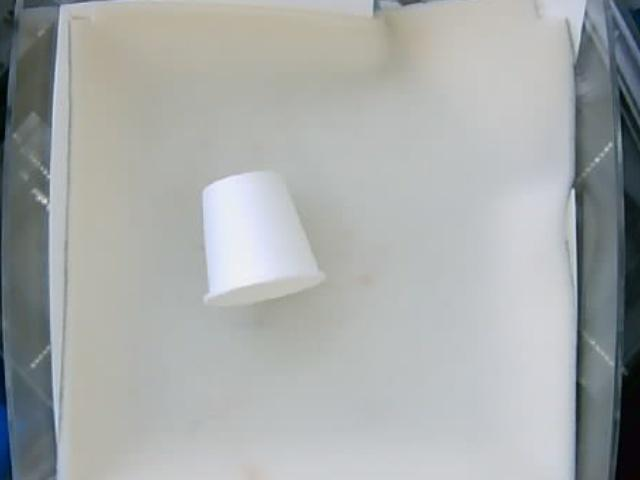Cup: (202, 172, 324, 309)
